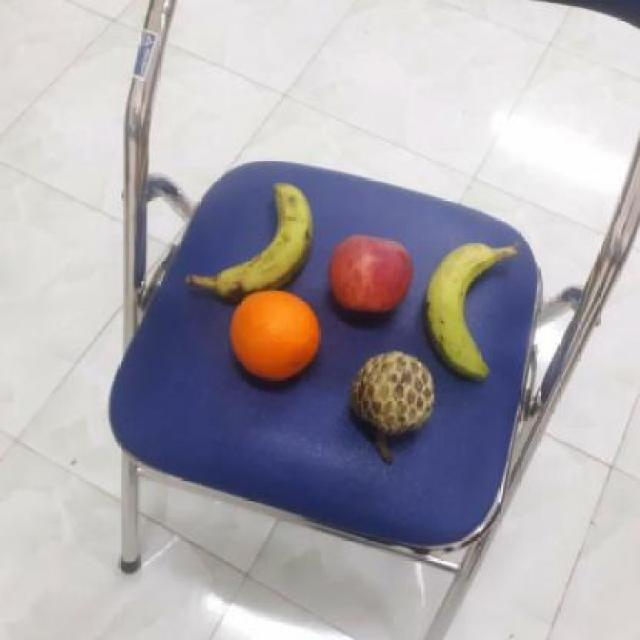apple: (322, 233, 410, 319)
banana: (196, 181, 318, 298), (420, 241, 520, 378)
oren: (224, 288, 318, 386)
sugar apple: (349, 351, 440, 438)
